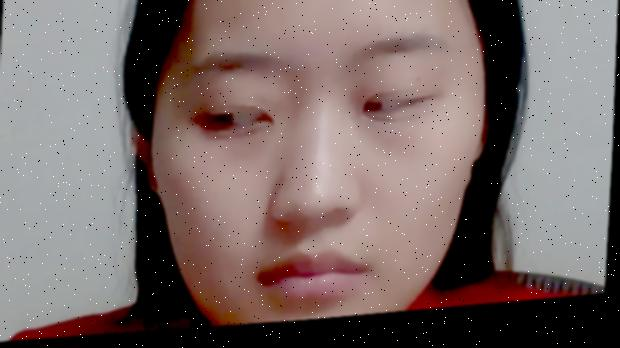eye: (202, 108, 234, 139), (359, 102, 385, 127)
iris: (200, 109, 270, 135), (365, 102, 426, 123)
